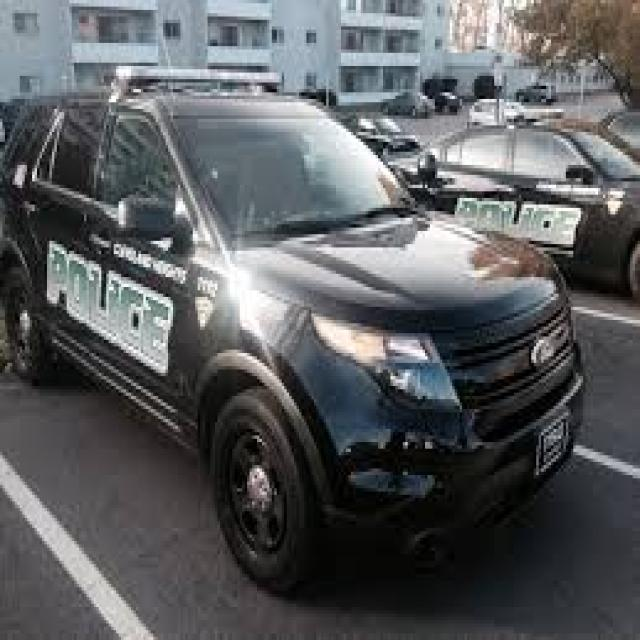cop: (0, 63, 589, 598), (385, 113, 640, 303)
